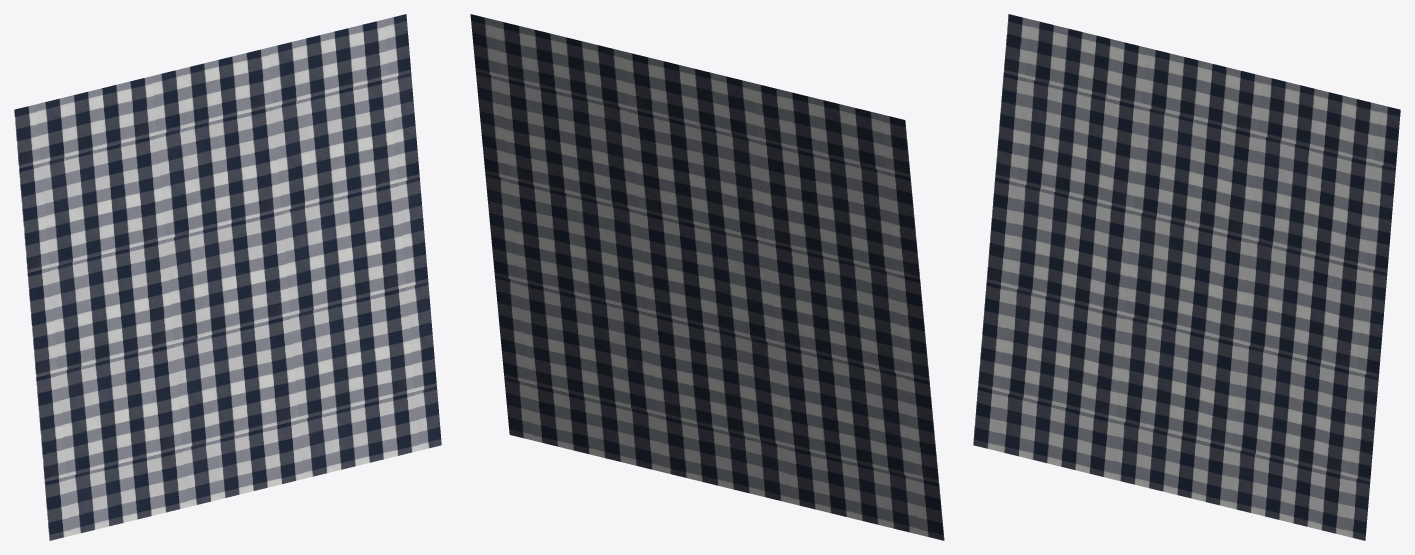
Rendered from fundo menu.fbx.
3 renders of one model, left to right at view 1: azimuth 30°, elevation 25°; view 2: azimuth 150°, elevation 25°; view 3: azimuth 330°, elevation 25°, orthographic. The views are drawn at different scales.
Parts seen in each view (by area): view 1: pPlane1; view 2: pPlane1; view 3: pPlane1.
Boxes of the visible parts, x1=… form: pPlane1: x1=14, y1=14, x2=441, y2=540; pPlane1: x1=470, y1=14, x2=944, y2=540; pPlane1: x1=973, y1=14, x2=1400, y2=540.
Bounding box in the file's own units: 24.59 × 24.28 × 3.83.
1 material, 1 textured.
